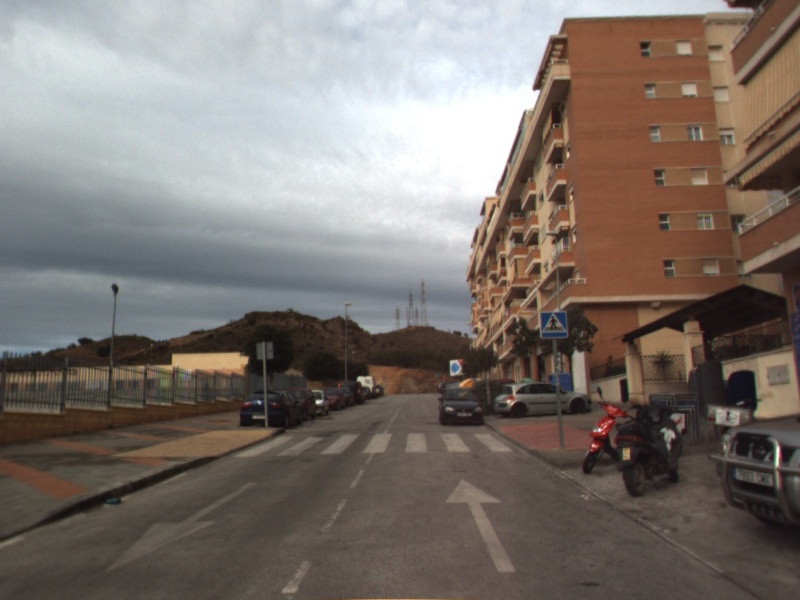STRAIGHT: (442, 476, 519, 574)
